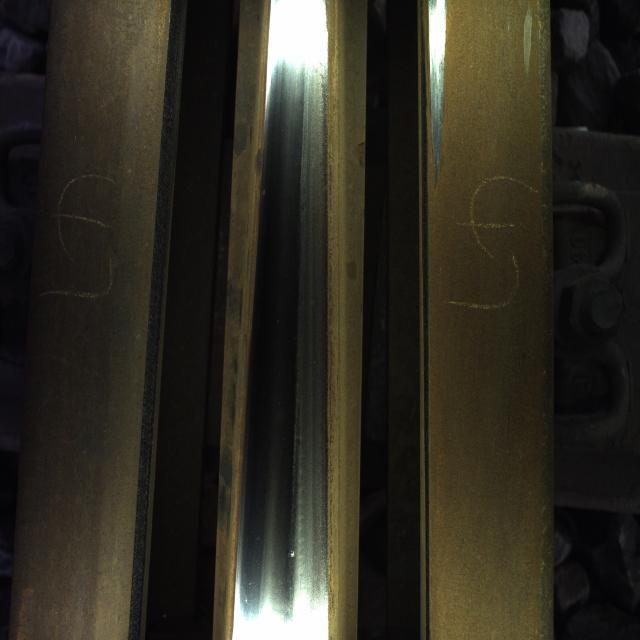break: (251, 60, 320, 602)
